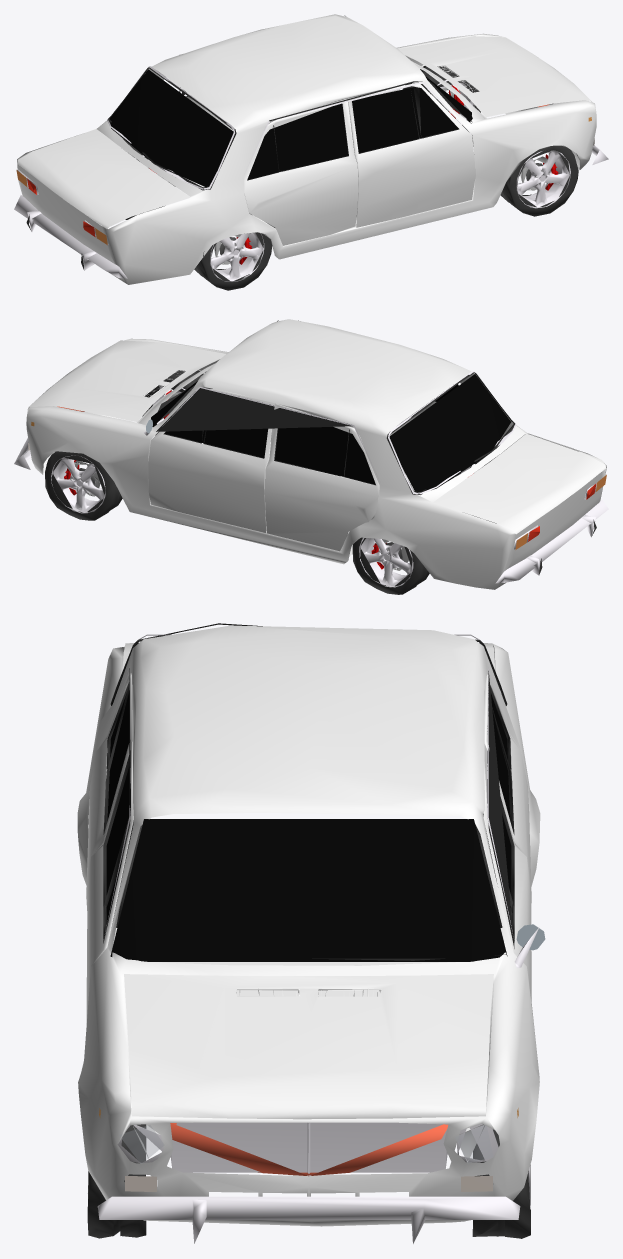
File: vaz2101_lod.glb
3 renders of one model, top to bottom at view 1: azimuth 30°, elevation 25°; view 2: azimuth 150°, elevation 25°; view 3: azimuth 270°, elevation 25°, orthographic. The views are drawn at different scales.
Visible parts, largest first — view 1: paint, glass_side, glass_rear, material_2, wheel3, wheel3_gum.001, wheel2, material_12, wheel2_gum.001, wheel1_gum.001; view 2: paint, glass_rear, material_12, glass_side, material_2, wheel1_gum.001, wheel1, wheel0, wheel0_gum.001, wheel3_gum.001; view 3: paint, glass_front, material_2, material_12, glass_side, material_8, wheel3_gum.001, material_5, wheel1_gum.001, material_9.
Boxes of the visible parts, x1=… form: paint: x1=17, y1=14, x2=596, y2=284; glass_side: x1=247, y1=87, x2=458, y2=179; glass_rear: x1=110, y1=69, x2=233, y2=186; material_2: x1=14, y1=54, x2=608, y2=278; wheel3: x1=516, y1=150, x2=570, y2=208; wheel3_gum.001: x1=500, y1=145, x2=578, y2=216; wheel2: x1=210, y1=232, x2=264, y2=281; material_12: x1=108, y1=15, x2=472, y2=190; wheel2_gum.001: x1=194, y1=213, x2=272, y2=290; wheel1_gum.001: x1=403, y1=66, x2=480, y2=138; paint: x1=26, y1=319, x2=606, y2=589; glass_rear: x1=390, y1=374, x2=510, y2=491; material_12: x1=156, y1=320, x2=515, y2=494; glass_side: x1=164, y1=384, x2=458, y2=484; material_2: x1=14, y1=371, x2=608, y2=583; wheel1_gum.001: x1=45, y1=451, x2=122, y2=520; wheel1: x1=51, y1=455, x2=105, y2=513; wheel0: x1=359, y1=537, x2=413, y2=587; wheel0_gum.001: x1=352, y1=537, x2=429, y2=594; wheel3_gum.001: x1=142, y1=370, x2=212, y2=443; paint: x1=77, y1=625, x2=540, y2=1226; glass_front: x1=110, y1=819, x2=507, y2=961; material_2: x1=97, y1=634, x2=538, y2=1243; material_12: x1=103, y1=623, x2=514, y2=960; glass_side: x1=106, y1=693, x2=511, y2=928; material_8: x1=170, y1=1123, x2=448, y2=1176; wheel3_gum.001: x1=87, y1=1124, x2=146, y2=1238; material_5: x1=119, y1=1125, x2=493, y2=1163; wheel1_gum.001: x1=472, y1=1129, x2=530, y2=1238; material_9: x1=125, y1=1176, x2=492, y2=1191.
Size of the model in its own units: 4.04 by 1.26 by 1.61.
